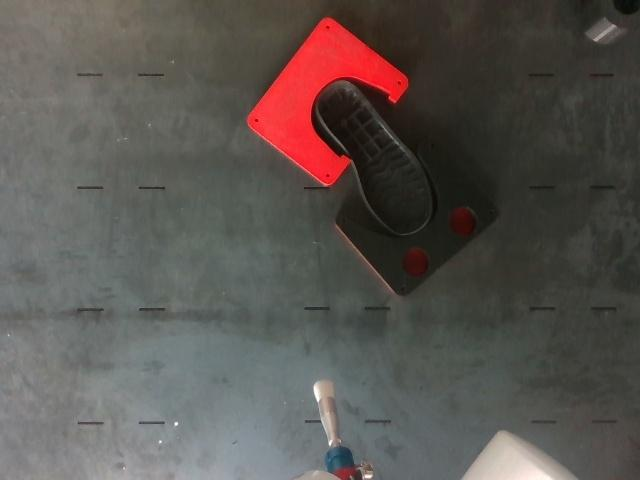shoes: (318, 81, 432, 235)
